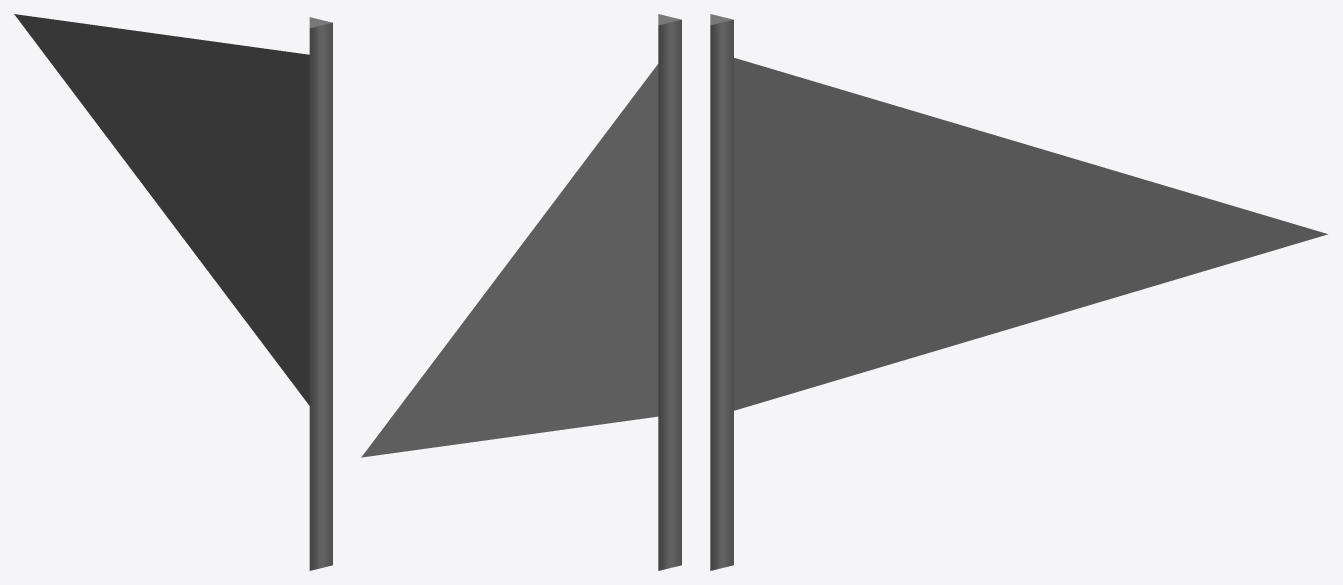
The model's file is Fight_Scene_Flag_001.FBX.
3 views of the same model, side by side, from view 1: azimuth 30°, elevation 25°; view 2: azimuth 150°, elevation 25°; view 3: azimuth 270°, elevation 25° (orthographic).
Visible parts, largest first — view 1: Fight_Scene_Flag_002, Fight_Scene_Flag_001; view 2: Fight_Scene_Flag_002, Fight_Scene_Flag_001; view 3: Fight_Scene_Flag_002, Fight_Scene_Flag_001.
Boxes of the visible parts, bbox=[...] form: Fight_Scene_Flag_002: bbox=[14, 14, 309, 405]; Fight_Scene_Flag_001: bbox=[309, 17, 332, 570]; Fight_Scene_Flag_002: bbox=[361, 64, 658, 457]; Fight_Scene_Flag_001: bbox=[658, 14, 681, 570]; Fight_Scene_Flag_002: bbox=[734, 57, 1327, 410]; Fight_Scene_Flag_001: bbox=[710, 14, 733, 570].
Size of the model in its own units: 0.0825 by 1.84 by 1.89.
